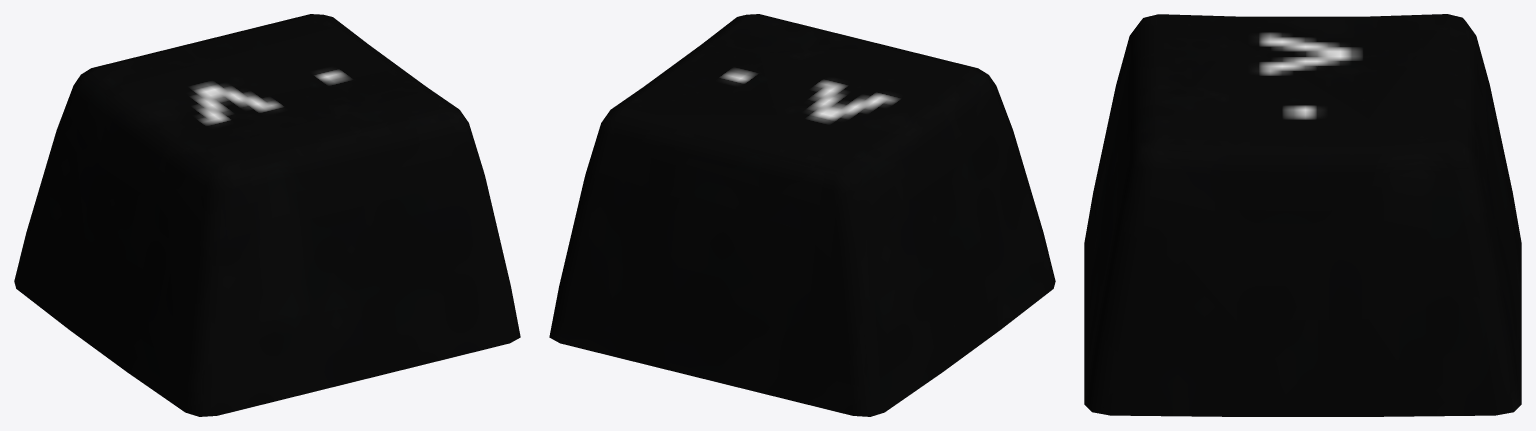
The model's file is supp.glb.
The picture shows the model from 3 angles, left to right: view 1: azimuth 30°, elevation 25°; view 2: azimuth 150°, elevation 25°; view 3: azimuth 270°, elevation 25°; orthographic projection. The views are drawn at different scales.
Visible parts, largest first — view 1: Period; view 2: Period; view 3: Period.
Boxes of the visible parts, x1,y1,x2,y2 form: Period: [14, 14, 520, 416]; Period: [549, 14, 1055, 416]; Period: [1084, 14, 1521, 416].
Bounding box in the file's own units: 0.0231 × 0.0145 × 0.0228.
1 material, 1 textured.
